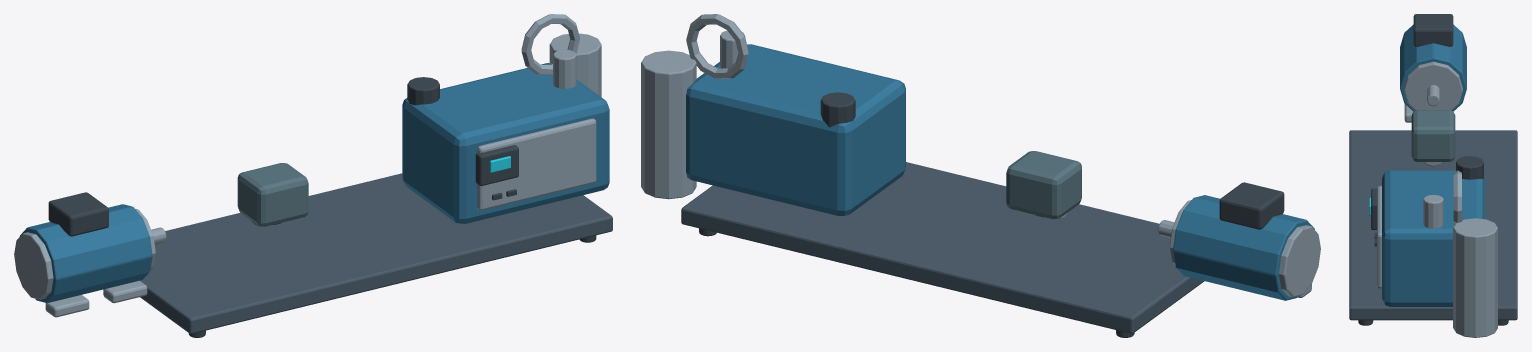
The model's file is air-compressor-lod2.glb.
The picture shows the model from 3 angles, left to right: view 1: azimuth 30°, elevation 25°; view 2: azimuth 150°, elevation 25°; view 3: azimuth 270°, elevation 25°; orthographic projection. The views are drawn at different scales.
Parts seen in each view (by area): view 1: drive_base, compressor_casing, motor, compressor_service_cover, coupling_guard, motor_terminal_box, motor_rear_endcap, oil_separator, compressor_pipe_elbow, compressor_control_panel, compressor_discharge, compressor_inlet_filter (+2 smaller); view 2: drive_base, compressor_casing, motor, oil_separator, coupling_guard, motor_terminal_box, motor_rear_endcap, compressor_pipe_elbow, compressor_inlet_filter, compressor_discharge; view 3: drive_base, compressor_casing, oil_separator, motor, coupling_guard, motor_front_endcap, motor_terminal_box, compressor_discharge, compressor_inlet_filter, compressor_service_cover, compressor_pipe_elbow, motor_shaft (+1 smaller).
Part boxes in pixels (x1,y1,x2,y2): drive_base: [140, 173, 612, 333]; compressor_casing: [402, 63, 609, 223]; motor: [19, 204, 152, 303]; compressor_service_cover: [477, 118, 596, 210]; coupling_guard: [237, 163, 308, 226]; motor_terminal_box: [48, 192, 108, 236]; motor_rear_endcap: [14, 232, 53, 299]; oil_separator: [549, 33, 601, 96]; compressor_pipe_elbow: [521, 14, 579, 74]; compressor_control_panel: [475, 145, 518, 185]; compressor_discharge: [553, 49, 576, 88]; compressor_inlet_filter: [407, 77, 439, 105]; drive_base: [681, 162, 1204, 333]; compressor_casing: [686, 44, 905, 216]; motor: [1173, 195, 1314, 300]; oil_separator: [641, 50, 696, 199]; coupling_guard: [1006, 151, 1081, 219]; motor_terminal_box: [1219, 182, 1284, 229]; motor_rear_endcap: [1279, 225, 1320, 297]; compressor_pipe_elbow: [686, 14, 748, 78]; compressor_inlet_filter: [820, 92, 855, 127]; compressor_discharge: [720, 30, 745, 68]; drive_base: [1349, 130, 1517, 320]; compressor_casing: [1382, 170, 1484, 306]; oil_separator: [1453, 218, 1497, 337]; motor: [1400, 24, 1466, 111]; coupling_guard: [1411, 110, 1455, 161]; motor_front_endcap: [1404, 61, 1462, 110]; motor_terminal_box: [1413, 14, 1453, 46]; compressor_discharge: [1423, 194, 1443, 228]; compressor_inlet_filter: [1456, 156, 1483, 179]; compressor_service_cover: [1377, 186, 1381, 288]; compressor_pipe_elbow: [1453, 170, 1461, 225]; motor_shaft: [1427, 85, 1439, 106].
Bounding box in the file's own units: 12.58 × 3.7 × 3.6.
